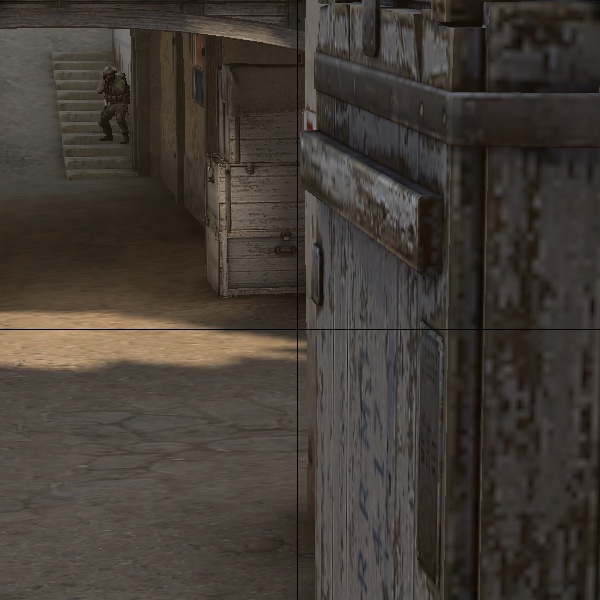ct_body: (99, 66, 131, 143)
ct_head: (102, 66, 117, 82)
